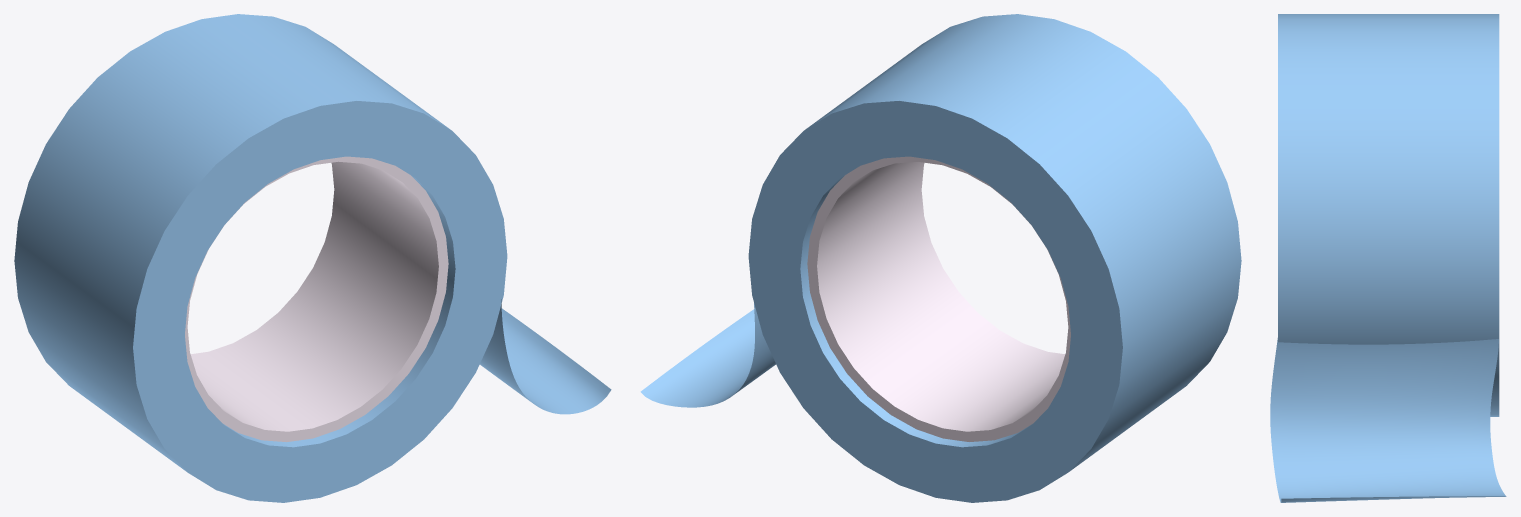
Rendered from bandage_r.glb.
3 renders of one model, left to right at view 1: azimuth 30°, elevation 25°; view 2: azimuth 150°, elevation 25°; view 3: azimuth 270°, elevation 25°, orthographic. The views are drawn at different scales.
Visible parts, largest first — view 1: r0001.22308, r0000.88341, c0002.31791; view 2: r0001.22308, r0000.88341, c0002.31791; view 3: r0001.22308, c0002.31791.
Boxes of the visible parts, bbox=[...] form: r0001.22308: bbox=[14, 14, 507, 502]; r0000.88341: bbox=[185, 156, 448, 442]; c0002.31791: bbox=[479, 299, 611, 414]; r0001.22308: bbox=[748, 14, 1241, 502]; r0000.88341: bbox=[807, 156, 1070, 441]; c0002.31791: bbox=[640, 303, 775, 407]; r0001.22308: bbox=[1278, 14, 1499, 416]; c0002.31791: bbox=[1270, 338, 1506, 502].
Bounding box in the file's own units: 0.1988 × 0.155 × 0.0909.
